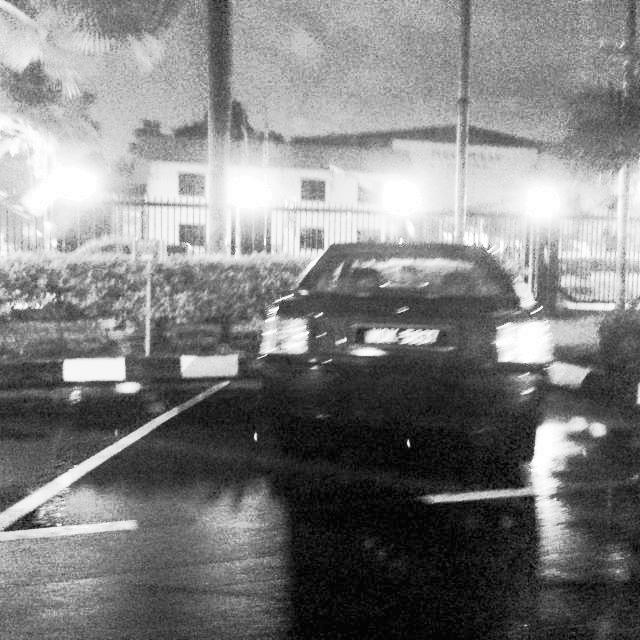Car: (254, 220, 565, 525)
